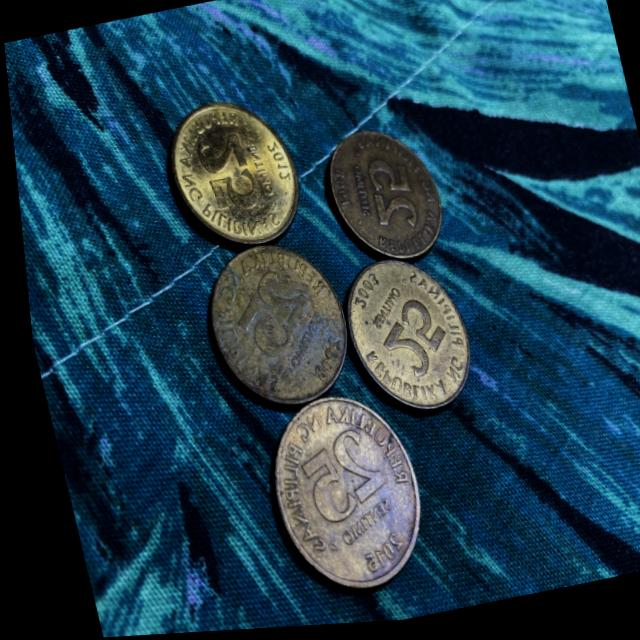25Cent_Old_Front: (283, 428, 382, 530), (221, 265, 315, 365), (369, 298, 447, 383), (192, 129, 261, 218), (359, 153, 421, 240)
